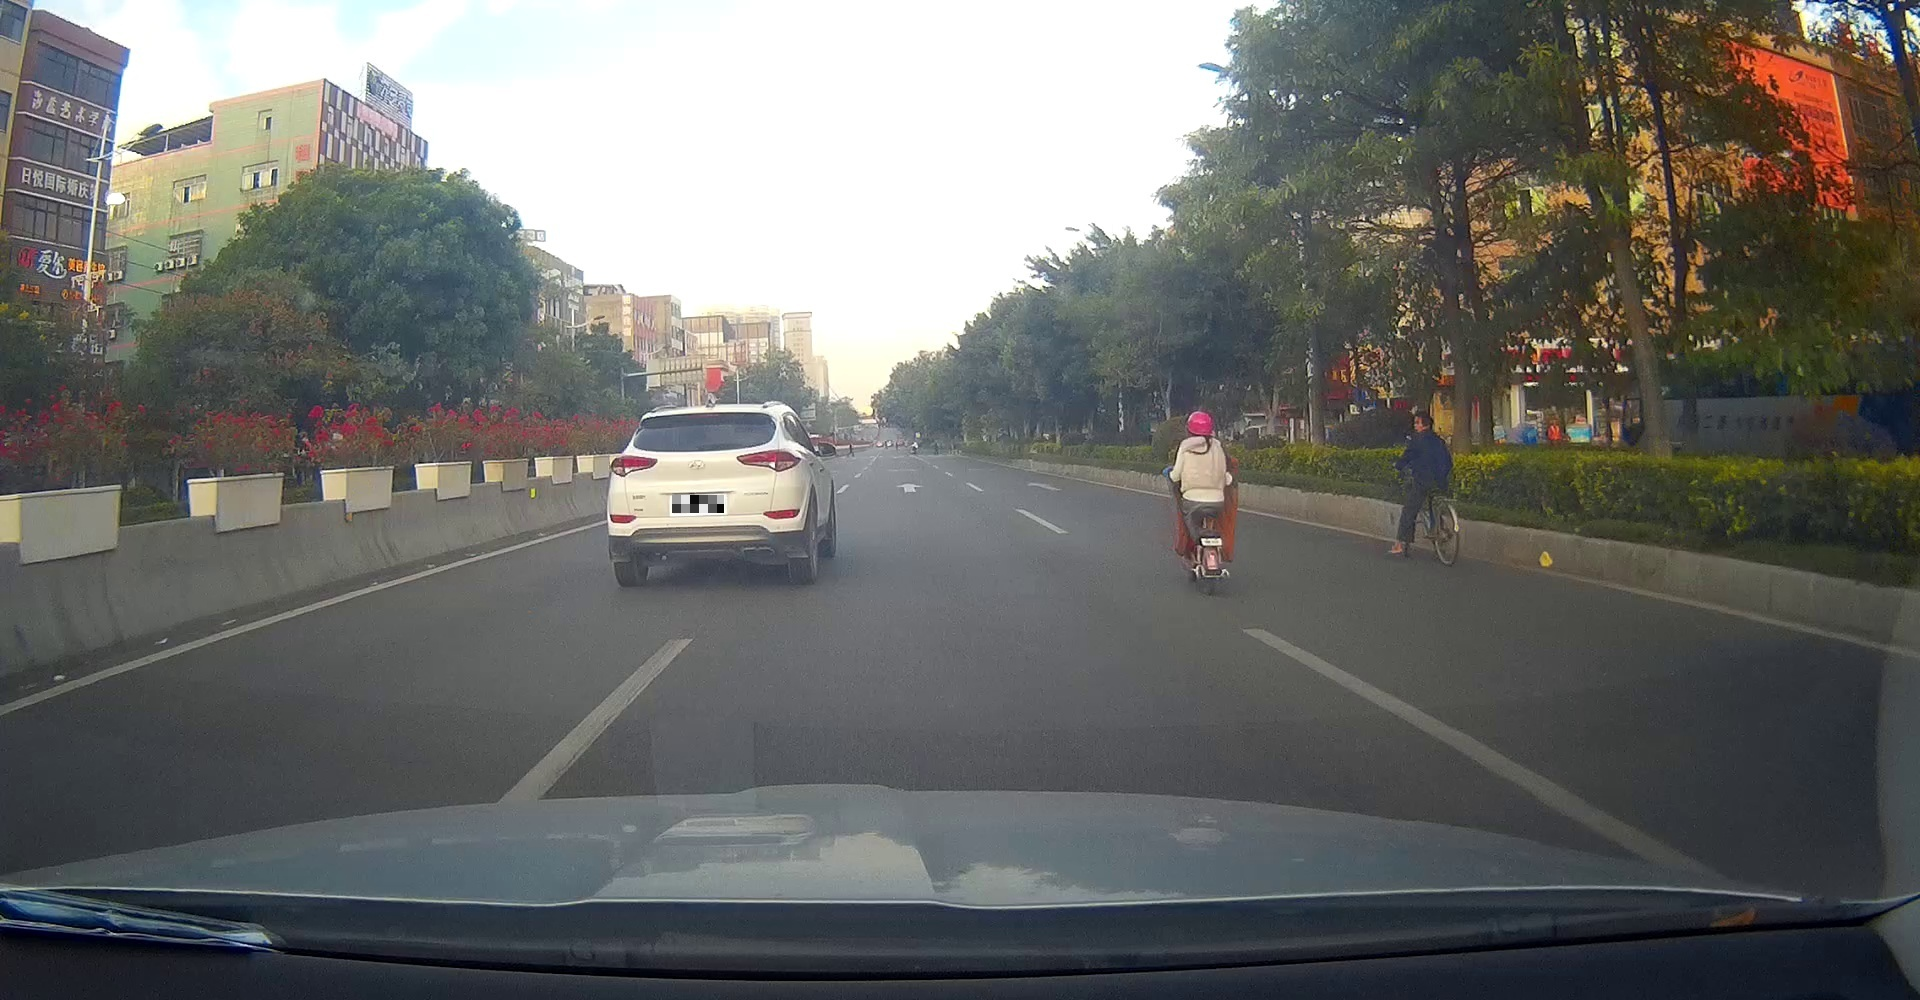L_light: (610, 454, 658, 476)
R_light: (735, 449, 801, 472)
T_light: (688, 412, 720, 418)
day-no: (607, 404, 805, 585)
plate_1: (672, 495, 724, 513)
